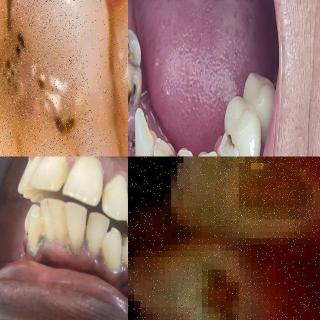calculus: (26, 232, 44, 258), (76, 227, 92, 255), (64, 231, 75, 255)
cavities: (0, 0, 88, 156), (221, 156, 320, 238), (185, 258, 268, 320), (128, 76, 142, 122), (128, 31, 141, 71), (214, 138, 242, 156), (159, 150, 177, 156), (172, 152, 184, 156)
maligned: (69, 158, 108, 206), (30, 156, 68, 194), (63, 204, 87, 250), (104, 177, 128, 220), (100, 229, 124, 271), (18, 156, 43, 196), (85, 216, 108, 252), (25, 208, 43, 249), (49, 204, 65, 249), (41, 196, 51, 242), (120, 236, 128, 266)
plaque: (94, 241, 108, 264)
stains: (54, 164, 74, 187), (97, 181, 111, 205)
